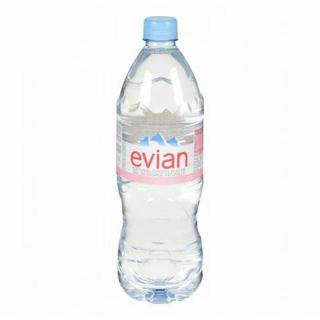Anorganik: (109, 11, 211, 307)
